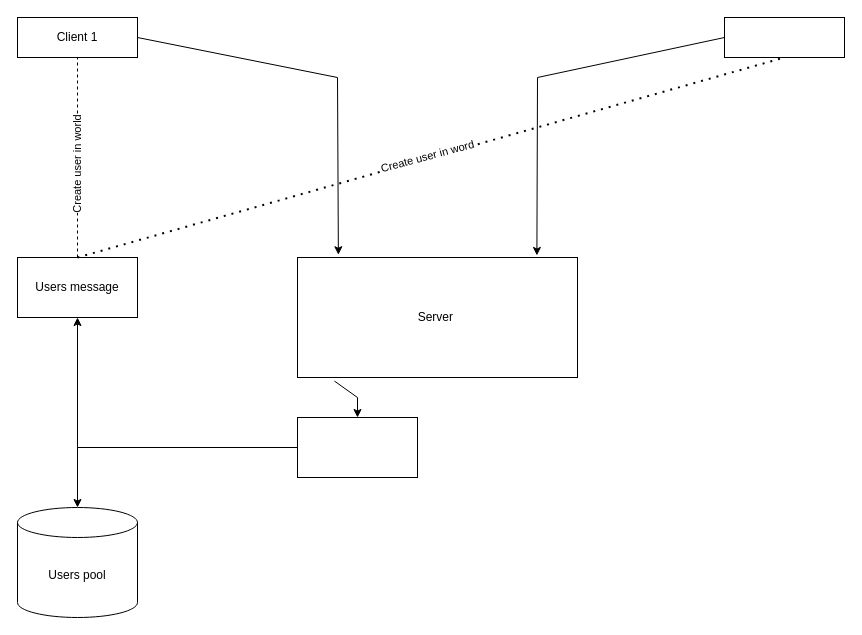
The diagram is 862 pixels wide and 635 high, and some of its shapes have lost their labels. Each missing label, with the centre of its shape:
"Client 2" goes at point (784, 37).
"Create user" goes at point (357, 447).
